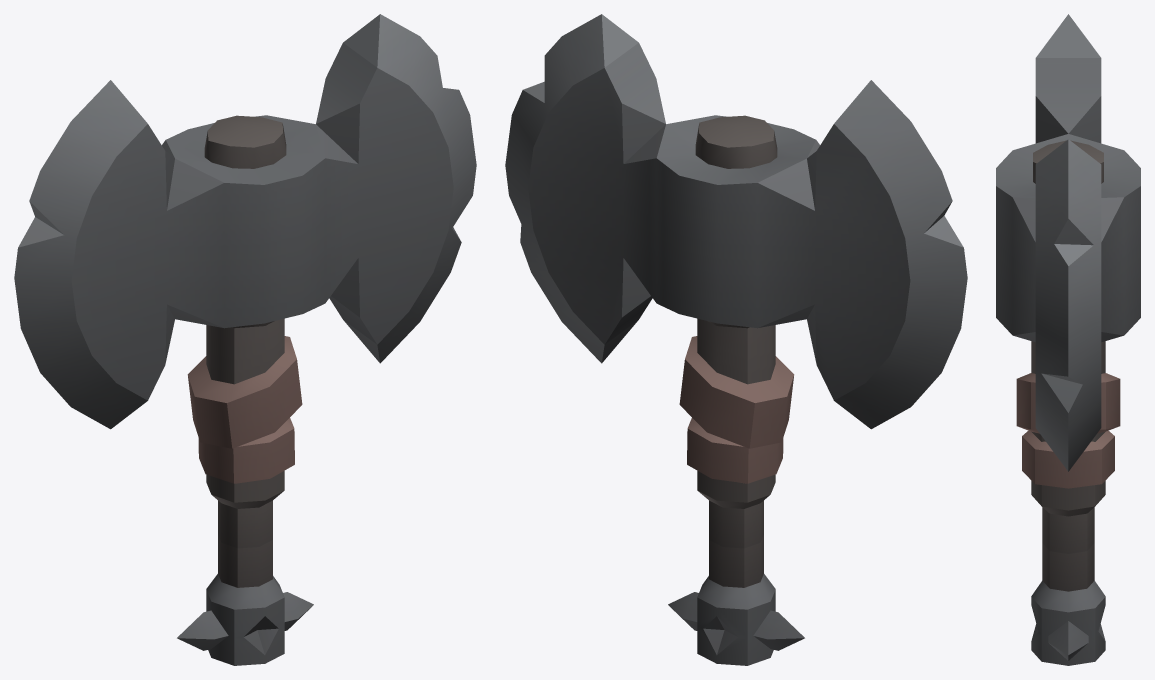
File: Skeleton_Axe.glb
3 renders of one model, left to right at view 1: azimuth 30°, elevation 25°; view 2: azimuth 150°, elevation 25°; view 3: azimuth 270°, elevation 25°, orthographic. The views are drawn at different scales.
Parts seen in each view (by area): view 1: Skeleton_Axe; view 2: Skeleton_Axe; view 3: Skeleton_Axe.
Part boxes in pixels (x1,y1,x2,y2): Skeleton_Axe: [14, 14, 476, 665]; Skeleton_Axe: [505, 14, 967, 665]; Skeleton_Axe: [996, 14, 1140, 665].
Bounding box in the file's own units: 0.9886 × 1.25 × 0.2819.
1 material, 1 textured.
